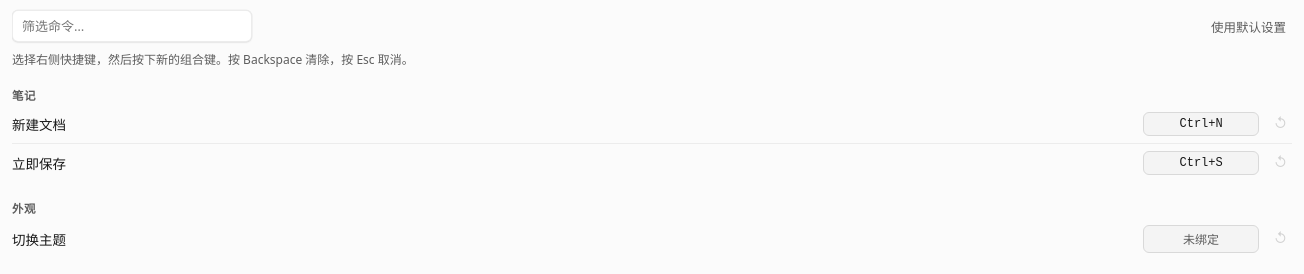
Test: 快捷键设置 › 不带 Ctrl/Alt 的键会把打字吃掉，不收
This screenshot has width=1304, height=274.
Click the button with class "key-cap" showing "Ctrl+N".
click(1201, 124)  # box top-left (1143, 112), bottom-right (1259, 136)
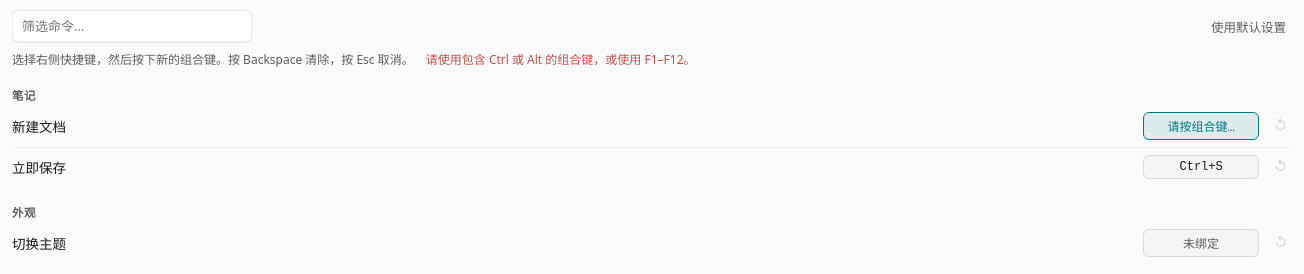
expect the text "请使用包含 Ctrl 或 Alt 的组合键，或使用 F1–F12。" is shown: met, box top-left (414, 51), bottom-right (696, 68)
expect the button with class "key-cap" reads "请按组合键…": met, box top-left (1143, 112), bottom-right (1259, 140)
